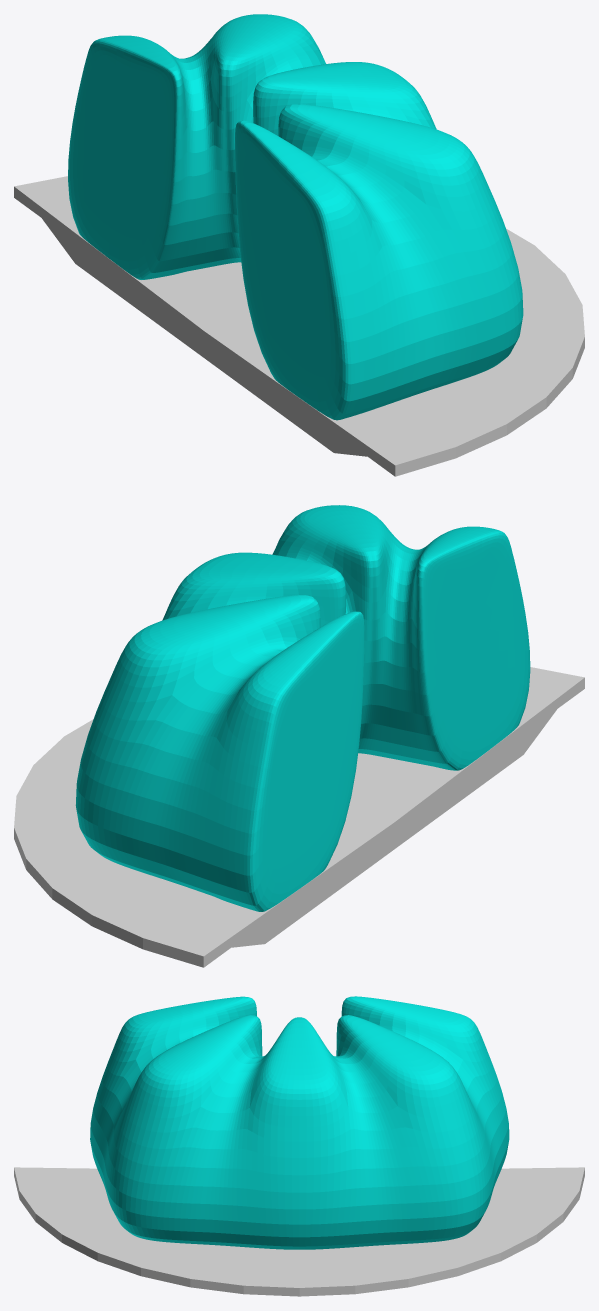
The model's file is JellyRight.fbx.
3 views of the same model, one above another, from view 1: azimuth 30°, elevation 25°; view 2: azimuth 150°, elevation 25°; view 3: azimuth 270°, elevation 25° (orthographic). The views are drawn at different scales.
Parts seen in each view (by area): view 1: Куб.001, Цилиндр.001; view 2: Куб.001, Цилиндр.001; view 3: Куб.001, Цилиндр.001.
Part boxes in pixels (x1,y1,x2,y2): Куб.001: (68,14,523,420); Цилиндр.001: (14,176,584,476); Куб.001: (75,505,530,911); Цилиндр.001: (14,667,584,967); Куб.001: (90,996,509,1249); Цилиндр.001: (14,1167,584,1296).
Size of the model in its own units: 272 by 207 by 545.
